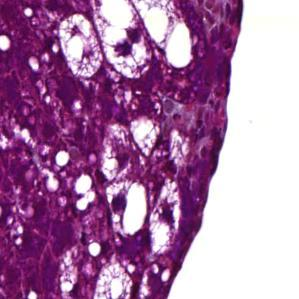ballooning: (89, 3, 193, 83), (58, 12, 104, 79), (147, 177, 185, 256), (103, 179, 150, 238)
